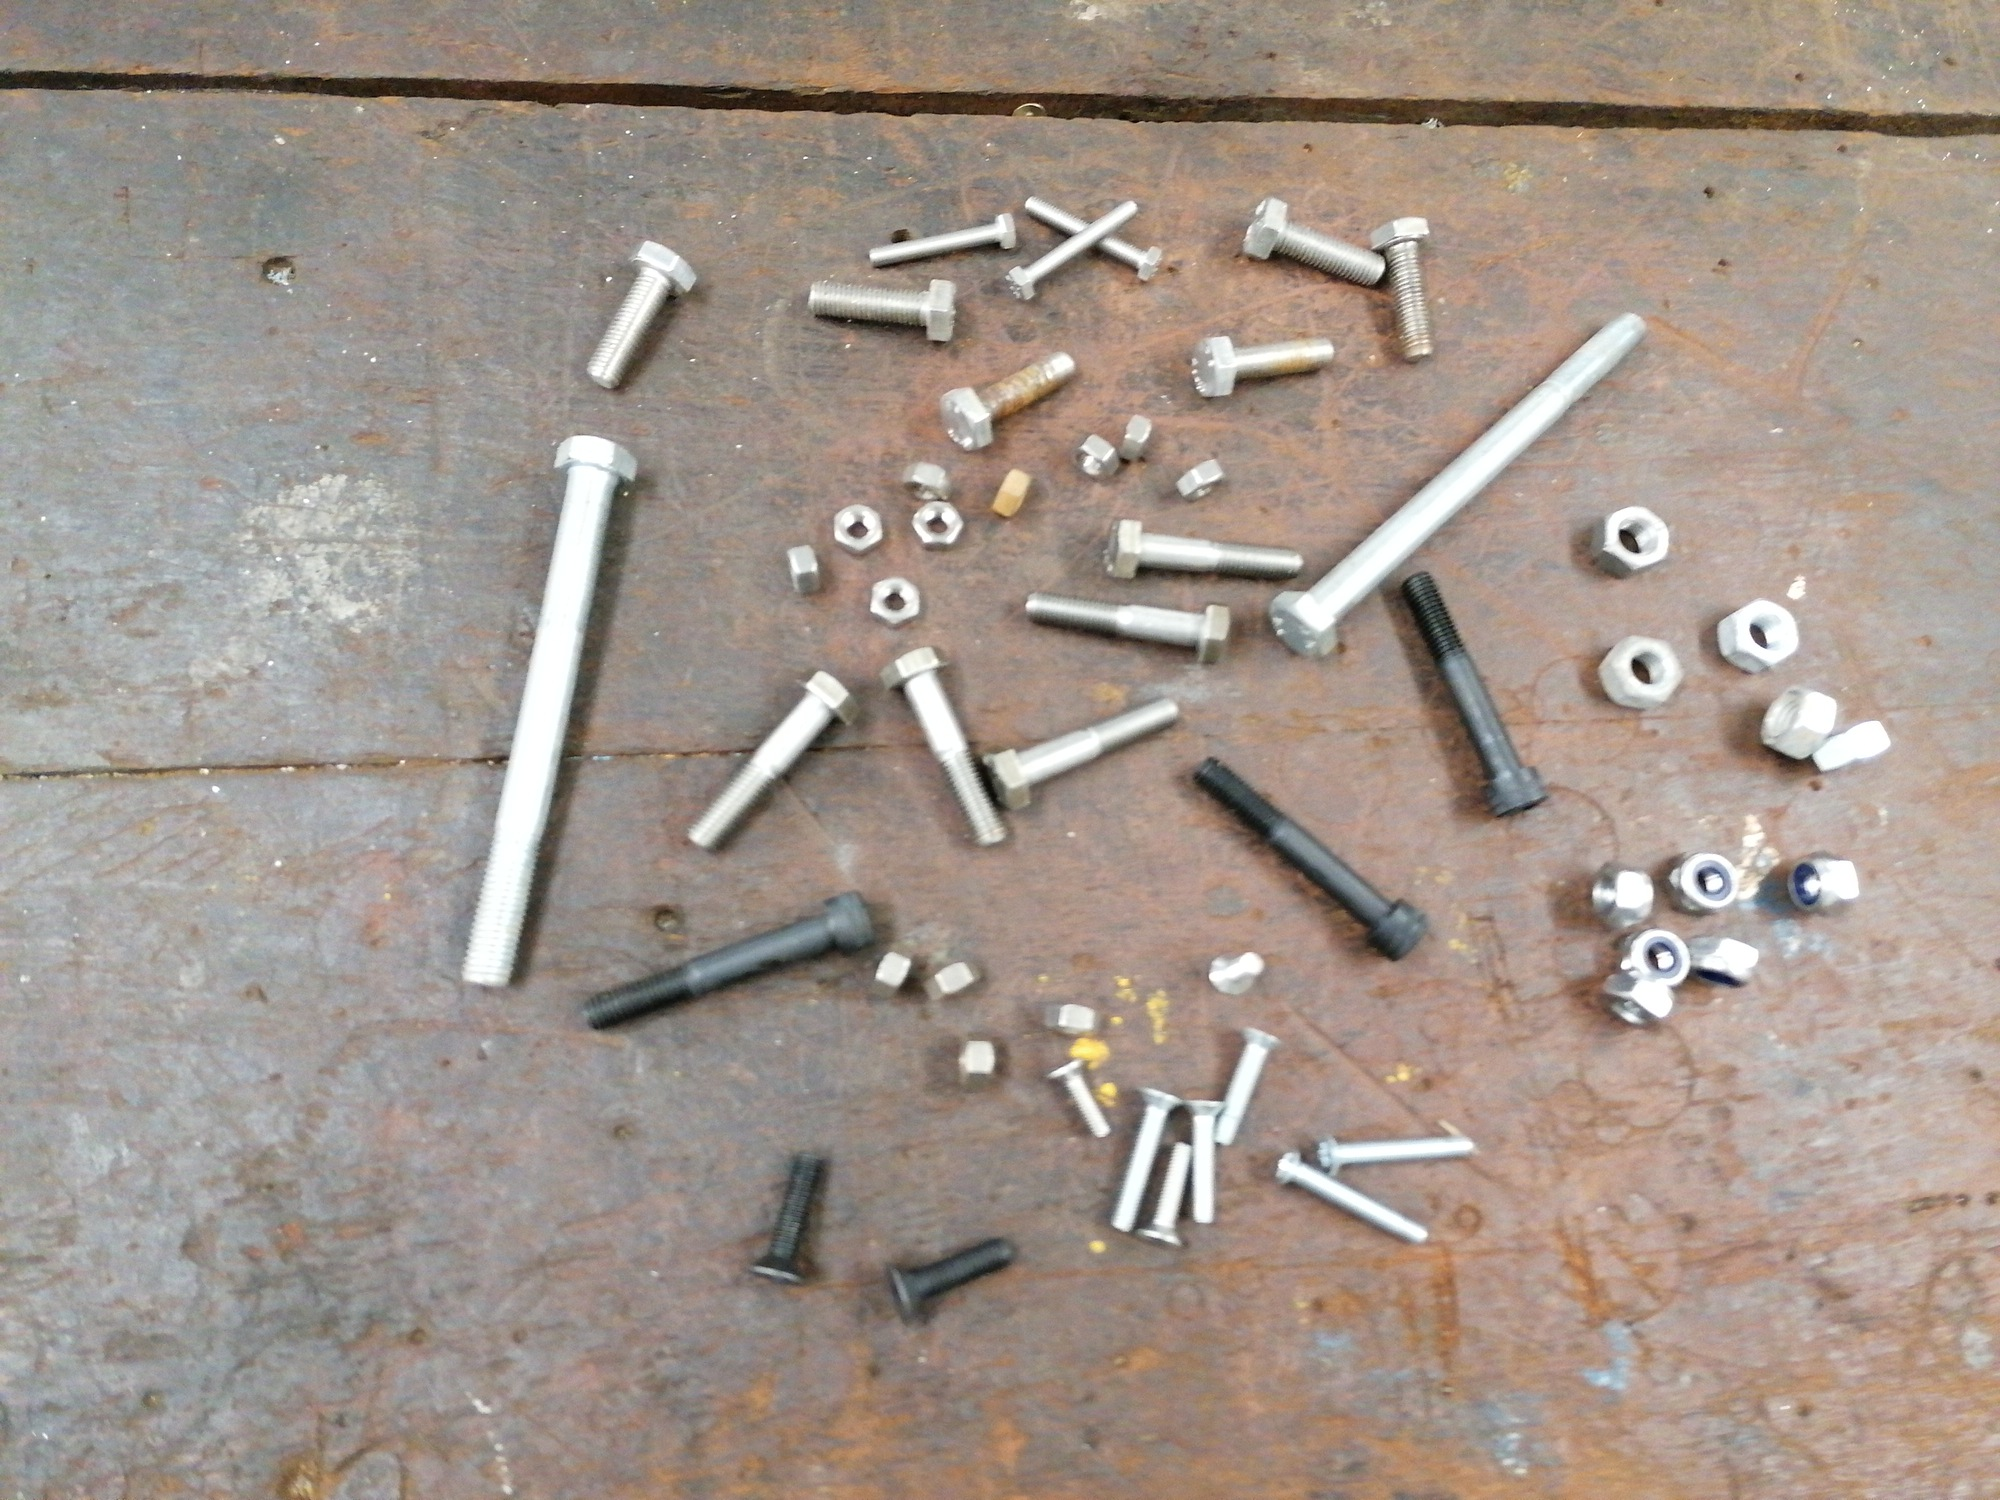bolt: (1268, 310, 1647, 659), (461, 433, 639, 989), (1194, 756, 1428, 963), (580, 890, 877, 1030), (1398, 570, 1551, 819), (685, 670, 860, 854), (879, 644, 1006, 848), (980, 696, 1180, 811), (586, 238, 698, 391), (1024, 591, 1235, 668), (1274, 1149, 1430, 1245), (939, 348, 1079, 452), (1101, 514, 1304, 585), (1005, 199, 1139, 301), (1241, 195, 1386, 287), (1022, 194, 1162, 282), (887, 1237, 1017, 1324), (1110, 1086, 1184, 1234), (1367, 213, 1436, 366), (750, 1150, 827, 1286), (1187, 332, 1335, 400), (806, 277, 957, 343), (868, 211, 1016, 268), (1216, 1026, 1283, 1145), (1315, 1133, 1479, 1175), (1134, 1141, 1194, 1249), (1183, 1098, 1227, 1224), (1044, 1057, 1112, 1138), (1206, 949, 1266, 994)
nut: (1595, 633, 1687, 709), (1717, 599, 1802, 673), (1591, 504, 1671, 580), (1757, 685, 1839, 759), (1663, 849, 1742, 915), (1598, 971, 1680, 1030), (1784, 852, 1861, 915), (1687, 933, 1764, 991), (1619, 926, 1691, 988), (1591, 862, 1655, 928), (1813, 718, 1891, 770), (920, 955, 983, 1002), (831, 503, 885, 558), (868, 575, 921, 629), (910, 499, 965, 551), (1173, 454, 1228, 501), (954, 1035, 997, 1095), (1069, 432, 1120, 481), (869, 944, 915, 997), (991, 468, 1033, 518), (901, 460, 953, 501), (1043, 1001, 1099, 1037), (786, 544, 822, 596), (1120, 413, 1153, 462)
